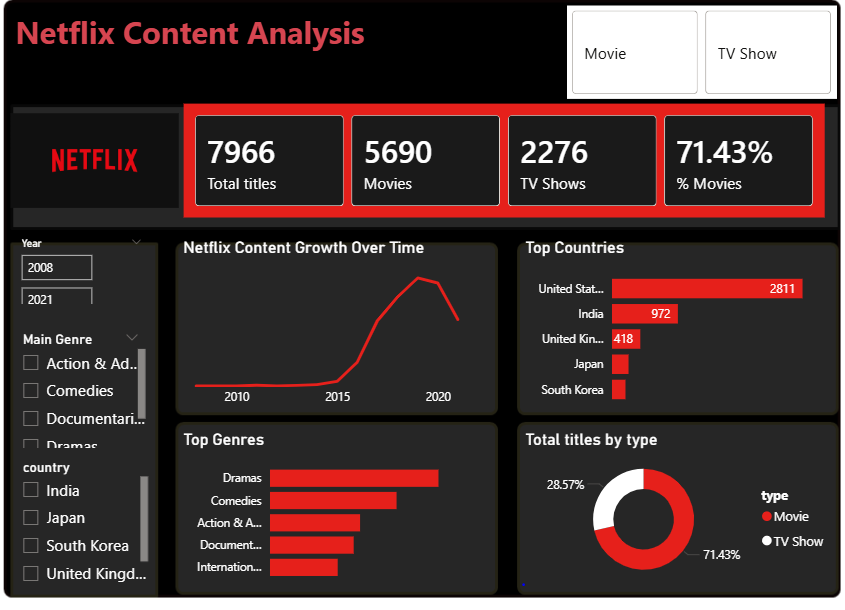

Layout of this report page (visuals, bound fields, positions):
{"tool":"powerbi","page":{"name":"Page 1","canvas":[1280,720],"ordinal":0},"visuals":[{"type":"lineChart","title":"Netflix Content Growth Over Time","fields":{"Category":["netflix_titles.Year Added"],"Y":["_Measures.Total titles"]},"box":[382.9,290.7,329.8,184.4],"z":0},{"type":"donutChart","fields":{"Category":["netflix_titles.type"],"Y":["_Measures.Total titles"]},"box":[739.3,490.8,329.8,167.2],"z":1000},{"type":"clusteredBarChart","title":"Top Countries","fields":{"Category":["netflix_titles.country"],"Y":["_Measures.Total titles"]},"box":[739.3,290.7,329.8,184.4],"z":2000},{"type":"clusteredBarChart","title":"Top Genres","fields":{"Category":["netflix_titles.Main Genre"],"Y":["_Measures.Total titles"]},"box":[382.9,490.8,329.8,167.2],"z":3000},{"type":"cardVisual","fields":{"Data":["_Measures.Total titles","_Measures.Movies","_Measures.TV Shows","_Measures.% Movies"]},"box":[382.9,145.4,679.9,129.7],"z":5000},{"type":"slicer","fields":{"Values":["netflix_titles.country"]},"box":[207.9,515.8,148.5,142.2],"z":7000},{"type":"slicer","fields":{"Values":["netflix_titles.Main Genre"]},"box":[207.9,382.9,145.4,131.3],"z":8000},{"type":"advancedSlicerVisual","fields":{"Values":["netflix_titles.type"]},"box":[787.7,48,281.3,97.4],"z":9000},{"type":"slicer","fields":{"Values":["Date Table.Year"]},"box":[206.3,284.5,150,75],"z":9001},{"type":"image","box":[207.9,145.4,175.1,129.7],"z":9002},{"type":"textbox","box":[207.9,48.5,579.9,96.9],"z":9003}]}

Visuals, with their boxes on the page's 1280x720 design canvas (x1, y1, x2, y2). These are canvas units, not pixel positions in the 845x610 screenshot, which may show the page scaled, cropped or inside an application window:
"Netflix Content Growth Over Time" lineChart: {"left": 383, "top": 291, "right": 713, "bottom": 475}
donutChart - netflix_titles.type x _Measures.Total titles: {"left": 739, "top": 491, "right": 1069, "bottom": 658}
"Top Countries" clusteredBarChart: {"left": 739, "top": 291, "right": 1069, "bottom": 475}
"Top Genres" clusteredBarChart: {"left": 383, "top": 491, "right": 713, "bottom": 658}
cardVisual - _Measures.Total titles x _Measures.Movies: {"left": 383, "top": 145, "right": 1063, "bottom": 275}
slicer - netflix_titles.country: {"left": 208, "top": 516, "right": 356, "bottom": 658}
slicer - netflix_titles.Main Genre: {"left": 208, "top": 383, "right": 353, "bottom": 514}
advancedSlicerVisual - netflix_titles.type: {"left": 788, "top": 48, "right": 1069, "bottom": 145}
slicer - Date Table.Year: {"left": 206, "top": 284, "right": 356, "bottom": 360}
image: {"left": 208, "top": 145, "right": 383, "bottom": 275}
textbox: {"left": 208, "top": 48, "right": 788, "bottom": 145}
